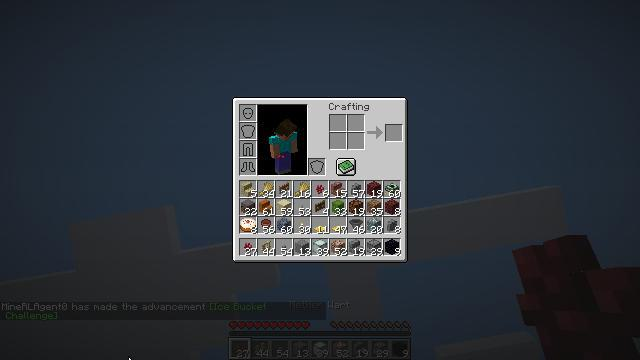cursor: (128, 356, 138, 360)
